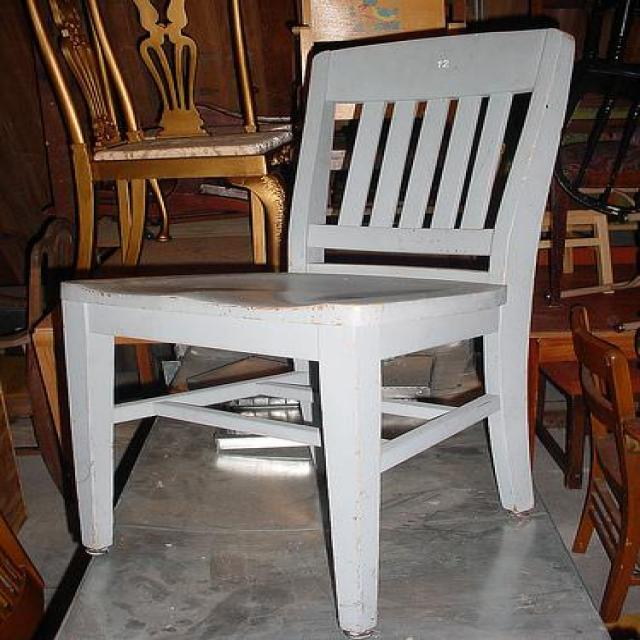chair: (56, 23, 580, 638)
